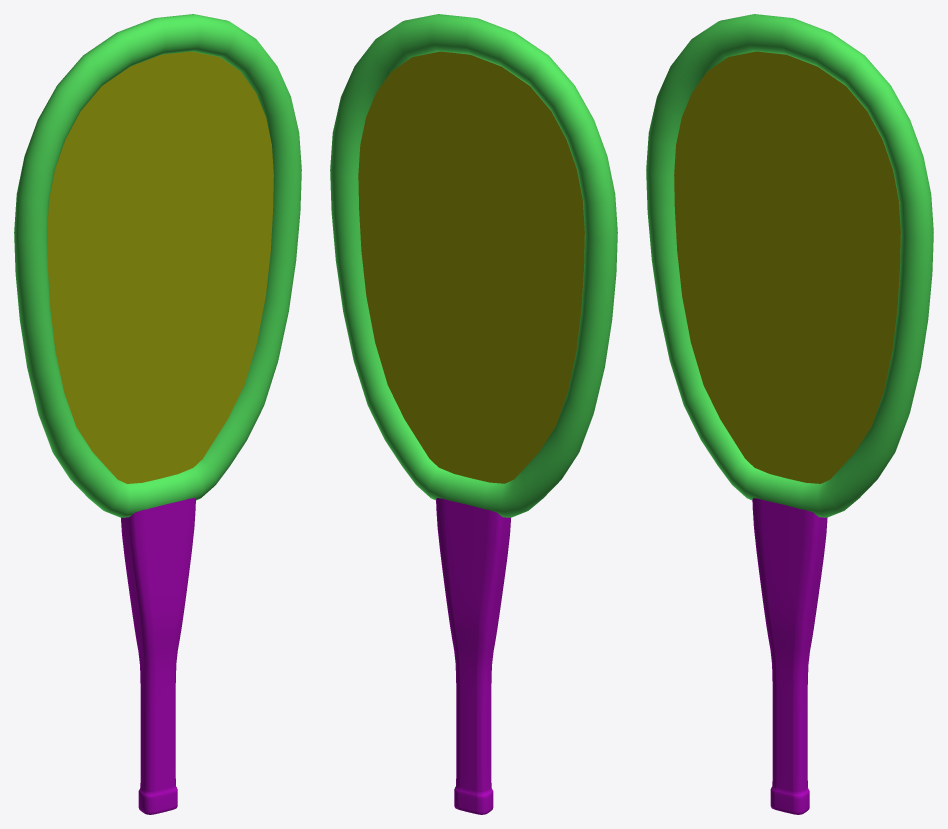
Rendered from SM_Racket_01.fbx.
The picture shows the model from 3 angles, left to right: view 1: azimuth 30°, elevation 25°; view 2: azimuth 150°, elevation 25°; view 3: azimuth 330°, elevation 25°; orthographic projection.
Visible parts, largest first — view 1: Racket_01; view 2: Racket_01; view 3: Racket_01.
Part boxes in pixels (x1,y1,x2,y2): Racket_01: (14,14,301,814); Racket_01: (330,14,617,814); Racket_01: (646,14,933,814).
Bounding box in the file's own units: 37.22 × 3.63 × 99.02.
